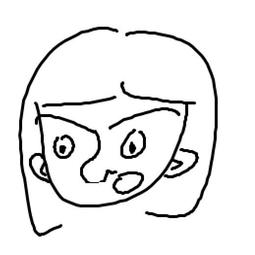ear: (167, 144, 202, 183), (27, 154, 50, 184)
eye: (119, 125, 151, 160), (46, 131, 78, 165)
frowning_eyebrow: (106, 105, 183, 133), (33, 111, 94, 137)
large_nose: (77, 133, 113, 189)
open_mouth: (111, 167, 151, 199)
